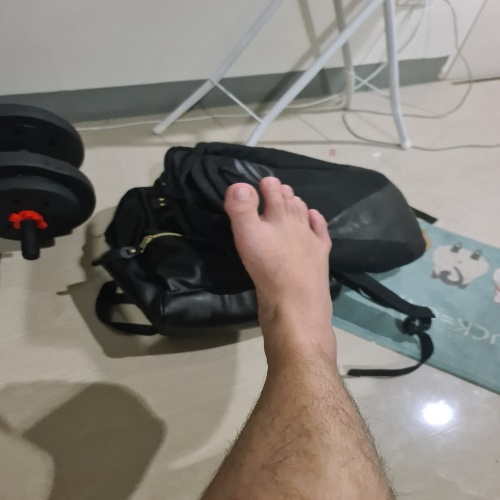3: (226, 181, 262, 229)
Top_Foot: (225, 177, 339, 379)
